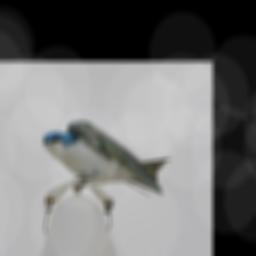Swallow: (43, 121, 172, 199)
